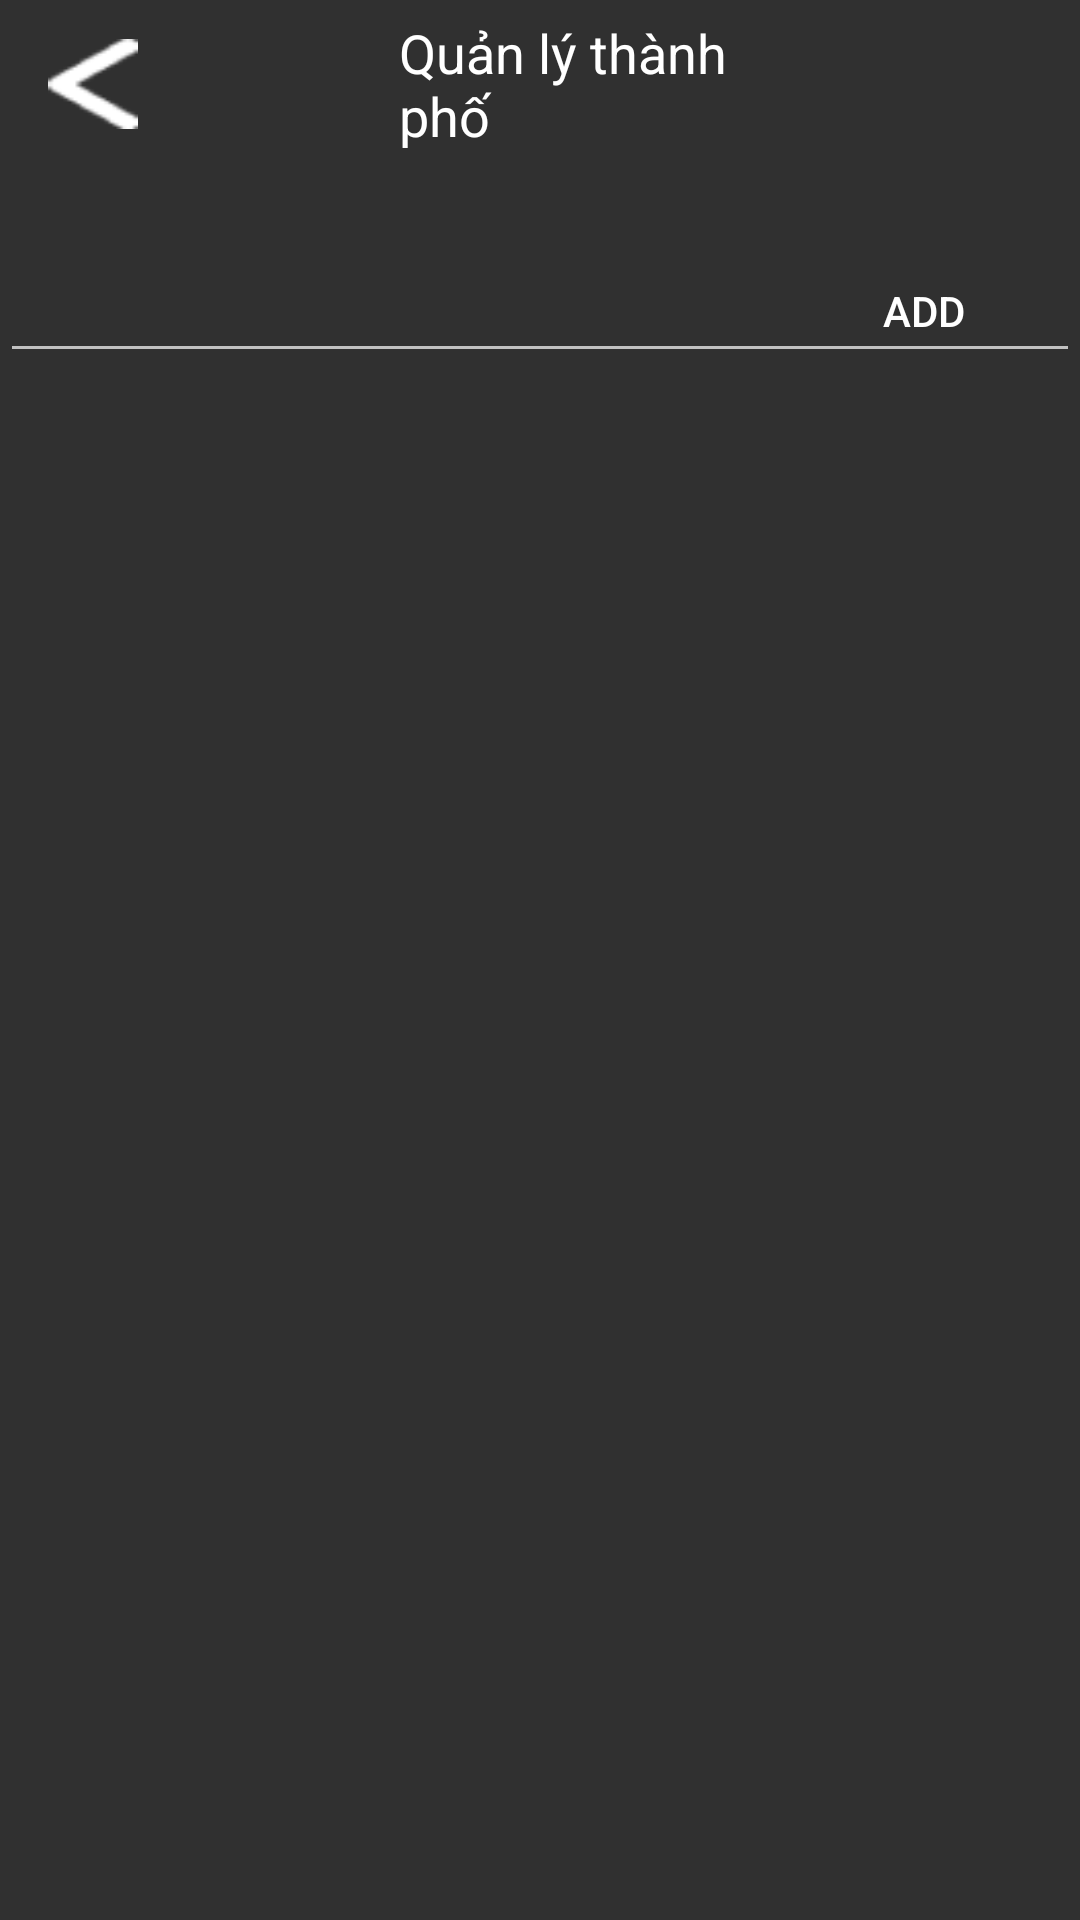

Named icons in this screenshot (1080 × 1920) and their bounding boxes, (x1, y1, x2, y2):
back: (48, 39, 138, 129)
